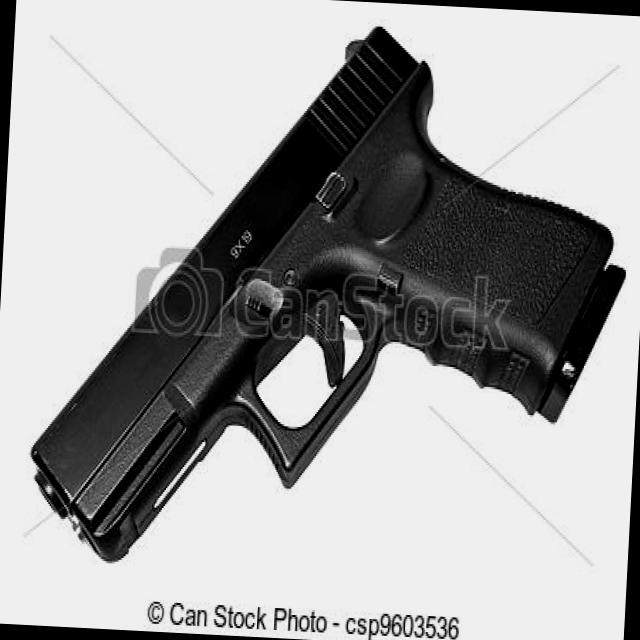handgun: (24, 4, 638, 602)
